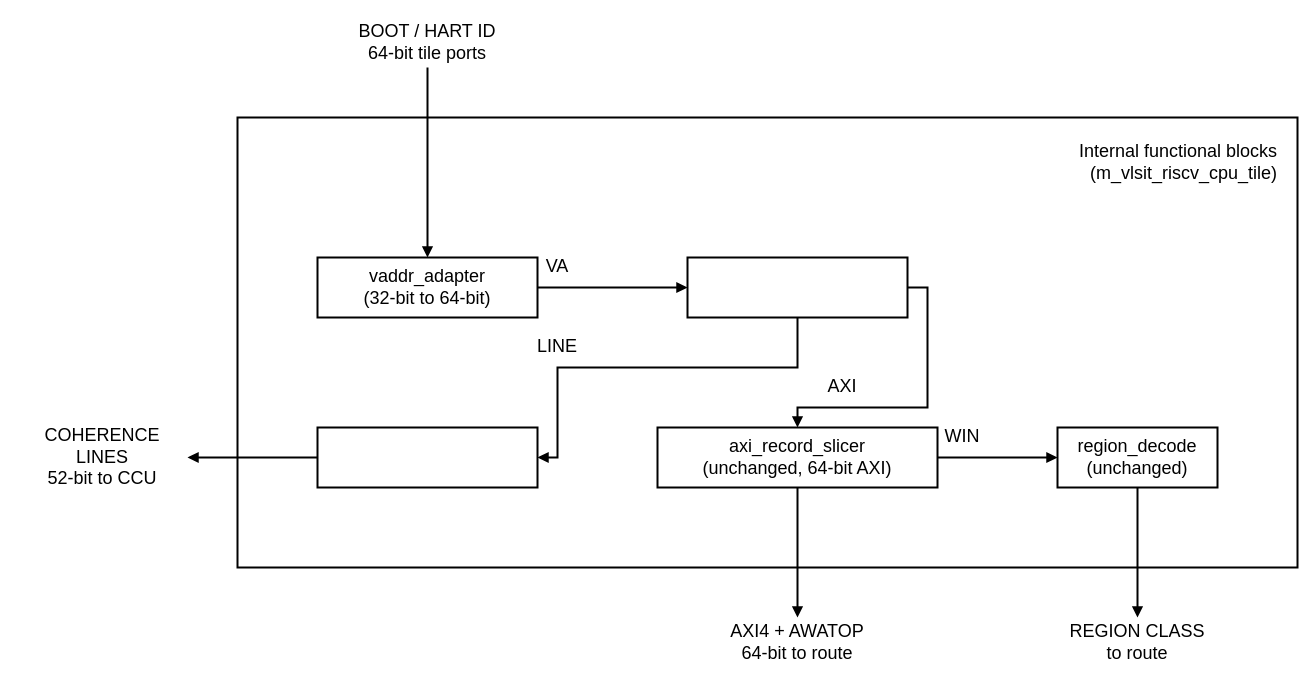
Image size: 1315x684. Some labels were removed from this diagram. The shapes that lost their labels are listed below. From the top down, each one's box as (x1, y1, x2, y2) in pixels, then its label:
(686, 256, 908, 318): u_dont_touch_cva6 (cva6, RV32 config)
(316, 426, 538, 488): line_addr_adapter (30-bit to 52-bit)
